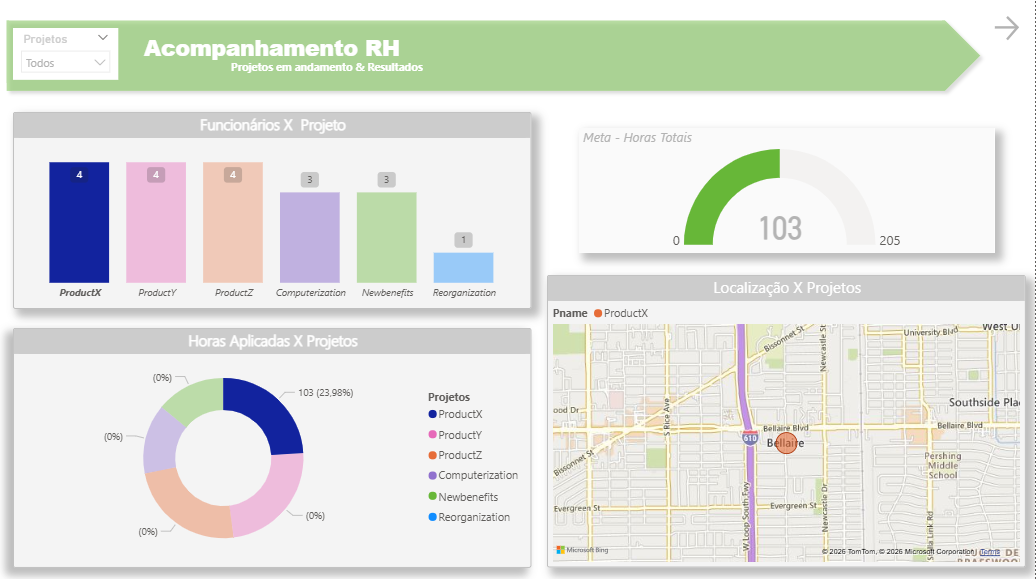

This screenshot's page, from the dashboard's own definition file:
{"tool":"powerbi","page":{"name":"RH","canvas":[1280,720],"ordinal":0},"visuals":[{"type":"shape","box":[0,18.2,1220.8,105.2],"z":0},{"type":"columnChart","title":"Funcionários X  Projeto","fields":{"Category":["Agrupamento RH.Pname"],"Y":["CountNonNull(Agrupamento RH.Funcionário )"]},"box":[16.9,140.3,640.3,242.9],"z":1000},{"type":"textbox","box":[160,37.1,352.9,48.6],"z":2000},{"type":"textbox","box":[281.4,71.4,260,30],"z":3000},{"type":"donutChart","title":"Horas Aplicadas X Projetos","fields":{"Y":["Sum(Agrupamento RH.Hours-projeto)"],"Category":["Agrupamento RH.Pname"]},"box":[16.9,407.8,640.3,296.1],"z":4000},{"type":"map","title":"Localização X Projetos","fields":{"Category":["Agrupamento RH.Dlocation"],"Series":["Agrupamento RH.Pname"]},"box":[677.1,341.4,591.4,361.4],"z":5000},{"type":"gauge","title":"Meta - Horas Totais","fields":{"Y":["Sum(Agrupamento RH.Hours-projeto)"]},"box":[715.7,160,512.9,154.3],"z":6000},{"type":"slicer","fields":{"Values":["Agrupamento RH.Pname"]},"box":[17.1,37.1,130,64.3],"z":7000},{"type":"actionButton","box":[1222.9,17.1,45.7,40],"z":8000}]}

Visuals, with their boxes in screenshot pixels (x1, y1, x2, y2), scaled from the page's 1280x720 canvas onto the 1036x579 screenshot:
shape: select_region(0, 15, 988, 99)
"Funcionários X  Projeto" columnChart: select_region(14, 113, 532, 308)
textbox: select_region(130, 30, 415, 69)
textbox: select_region(228, 57, 438, 82)
"Horas Aplicadas X Projetos" donutChart: select_region(14, 328, 532, 566)
"Localização X Projetos" map: select_region(548, 275, 1027, 565)
"Meta - Horas Totais" gauge: select_region(579, 129, 994, 253)
slicer - Agrupamento RH.Pname: select_region(14, 30, 119, 82)
actionButton: select_region(990, 14, 1027, 46)
